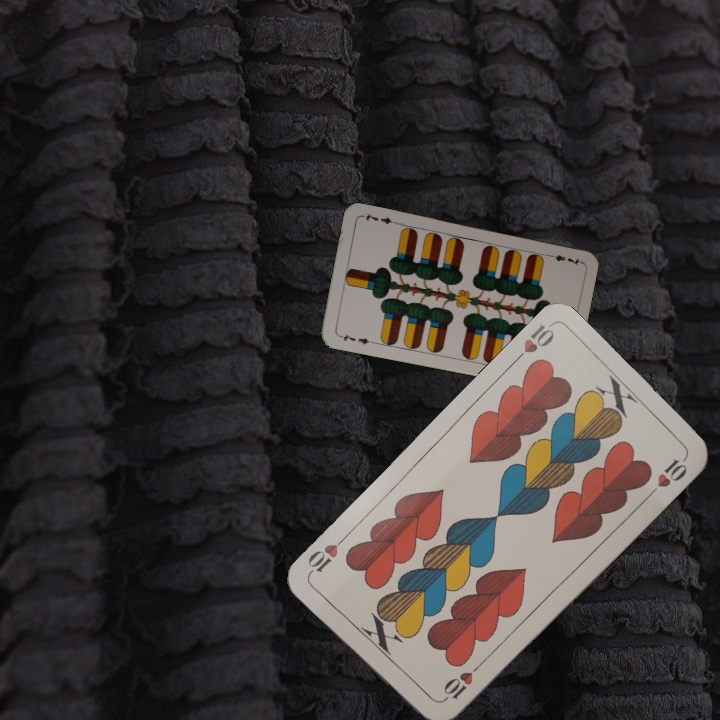E7: (542, 250, 583, 268), (335, 330, 375, 347)
H10: (508, 320, 557, 367), (437, 659, 485, 705)
